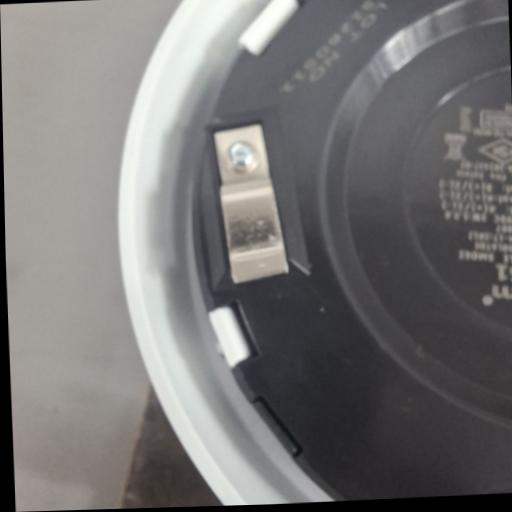yaysiz: (209, 120, 290, 286)
